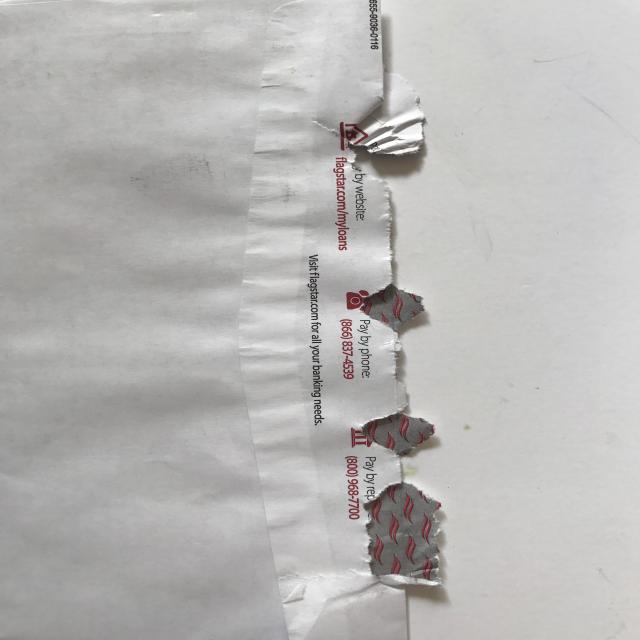Paper: (0, 0, 481, 640)
